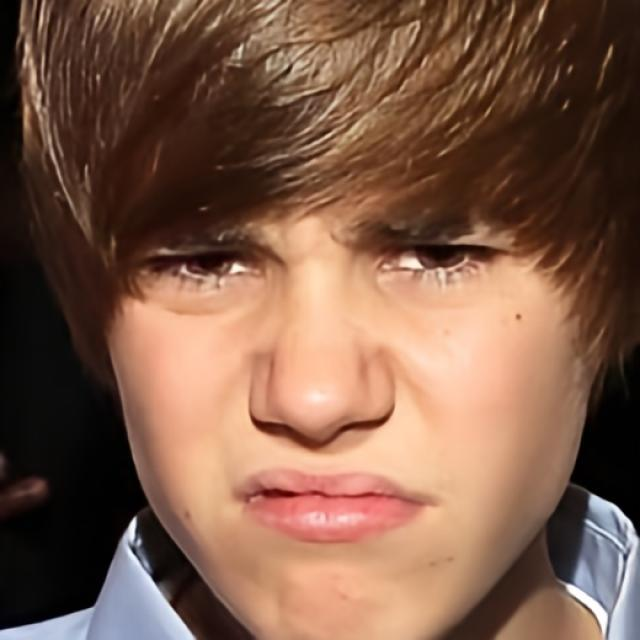disgust: (102, 121, 613, 640)
